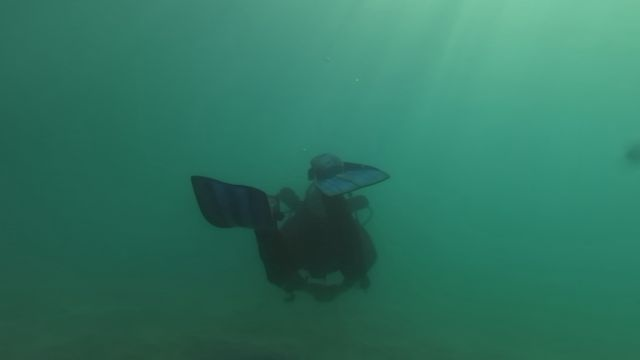Diver: (189, 149, 390, 308)
Hand: (321, 278, 346, 305), (305, 280, 328, 305)
